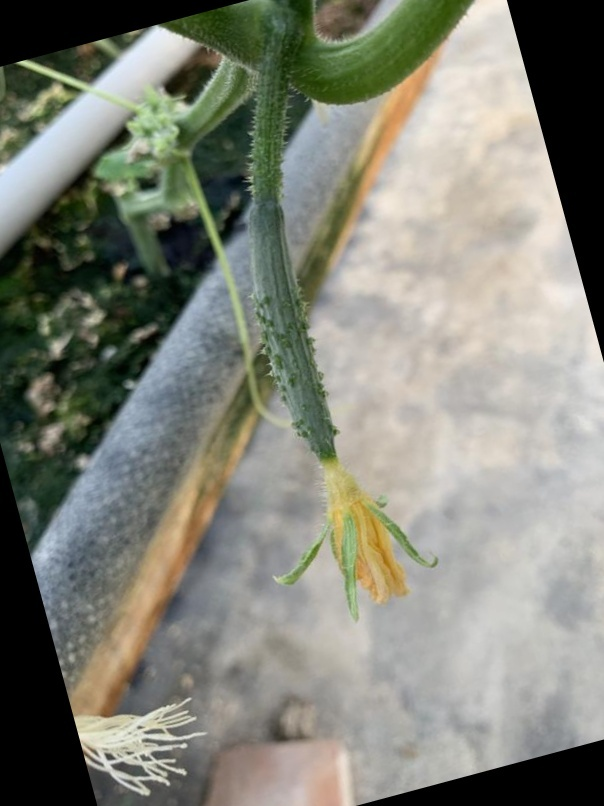bear: (225, 179, 440, 633)
